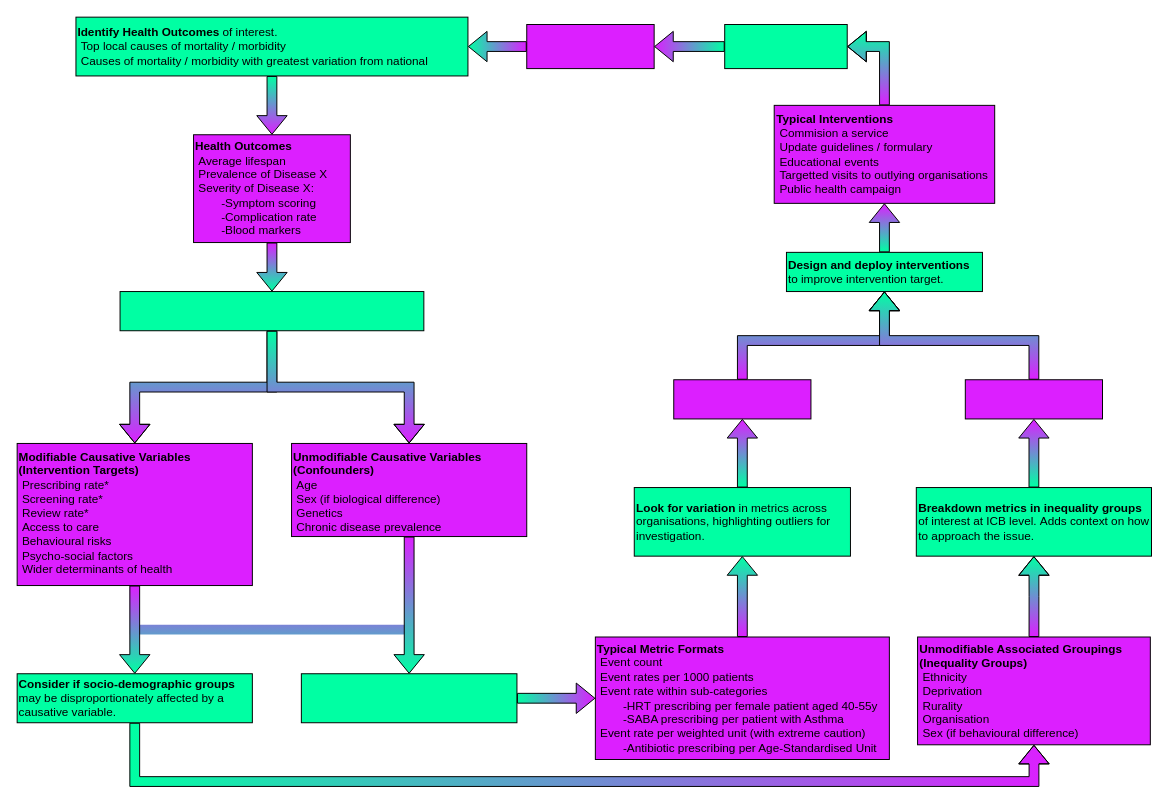
Some shapes in this 1169 by 804 pixel diagram are drawn without their labels. Each missing label, with the centre of its shape:
Consider causative factors of variation in the health outcome.: point (271, 311)
Dashboards: point (590, 46)
Design metrics which measure Intervention Targets and account for Confounders.: point (408, 698)
Health Inequalities: point (1033, 399)
Monitor Impact: point (785, 46)
Outlying Organisations: point (742, 399)
